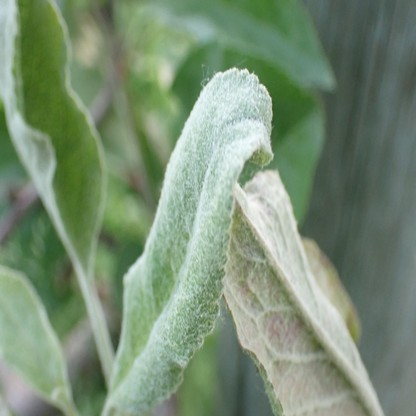powdery_mildew: (111, 67, 273, 412), (224, 169, 385, 416)
